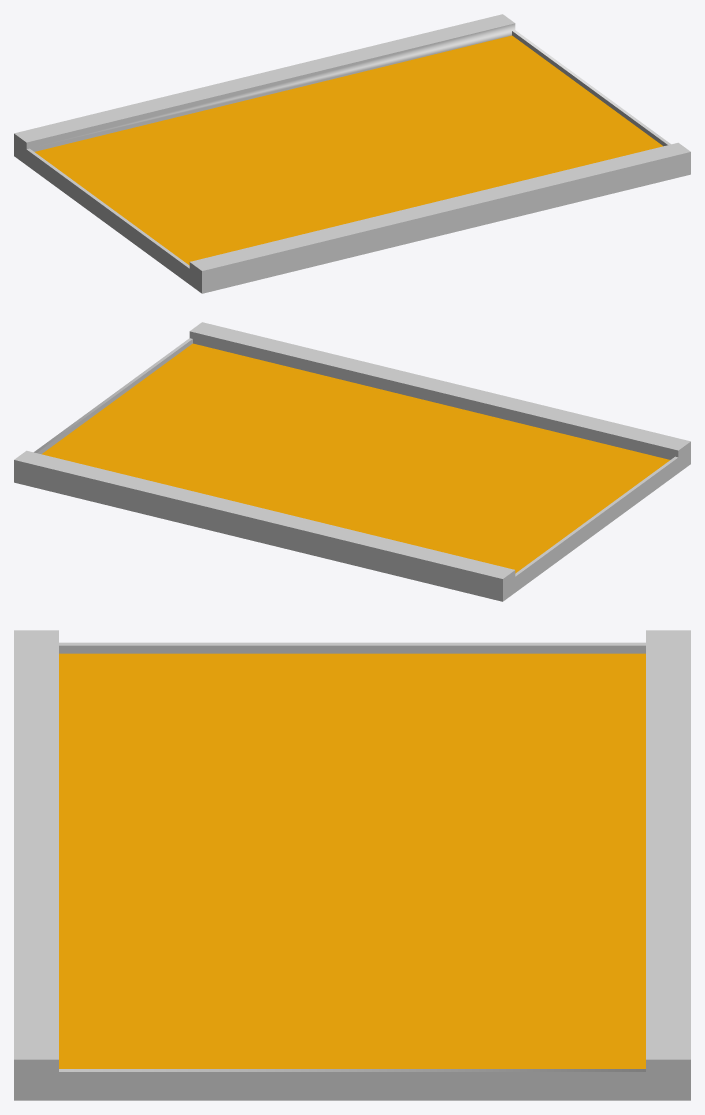
3 renders of one model, top to bottom at view 1: azimuth 30°, elevation 25°; view 2: azimuth 150°, elevation 25°; view 3: azimuth 270°, elevation 25°, orthographic. The views are drawn at different scales.
Parts seen in each view (by area): view 1: load.001; view 2: load.001; view 3: load.001.
Boxes of the visible parts, x1=… form: load.001: x1=14, y1=14, x2=690, y2=293; load.001: x1=14, y1=322, x2=690, y2=601; load.001: x1=14, y1=630, x2=690, y2=1100.
Size of the model in its own units: 11250 by 500 by 7500.
